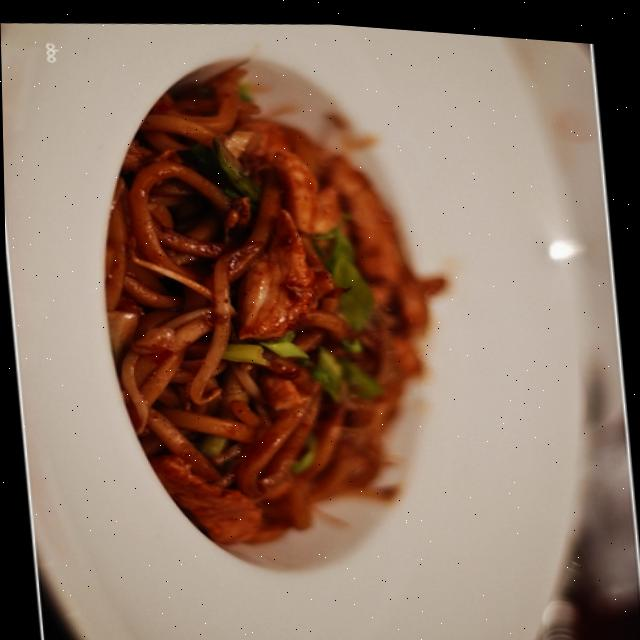面条主食: (10, 1, 624, 640)
